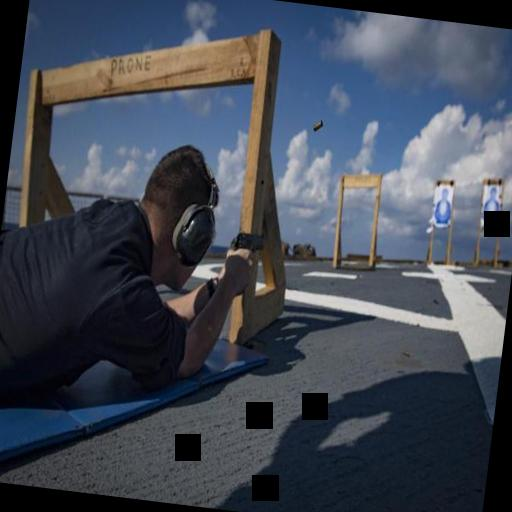Handgun: (226, 223, 266, 261)
